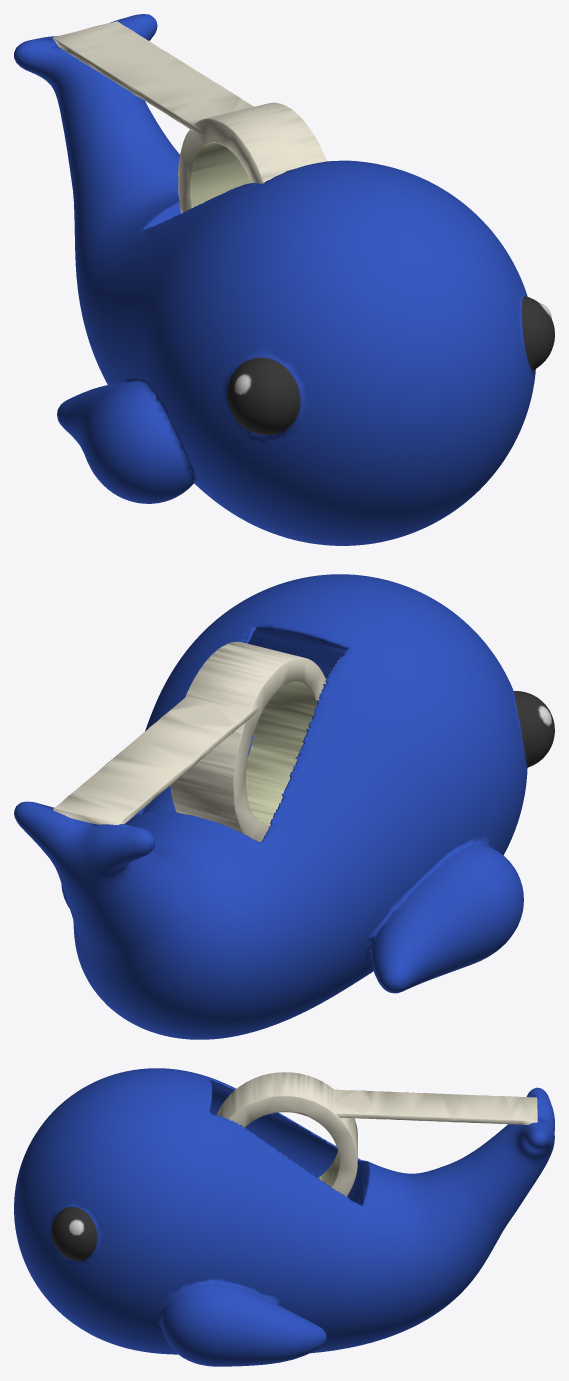
File: Whale_tape.glb
The picture shows the model from 3 angles, top to bottom: view 1: azimuth 30°, elevation 25°; view 2: azimuth 150°, elevation 25°; view 3: azimuth 270°, elevation 25°; orthographic projection. The views are drawn at different scales.
Visible parts, largest first — view 1: Area (1); view 2: Area (1); view 3: Area (1).
Part boxes in pixels (x1=…): Area (1): x1=14, y1=14, x2=554, y2=545; Area (1): x1=14, y1=574, x2=554, y2=1039; Area (1): x1=14, y1=1068, x2=554, y2=1366.
Size of the model in its own units: 221 by 179 by 334.
1 material, 1 textured.
